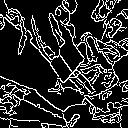cube: (48, 39, 89, 86)
